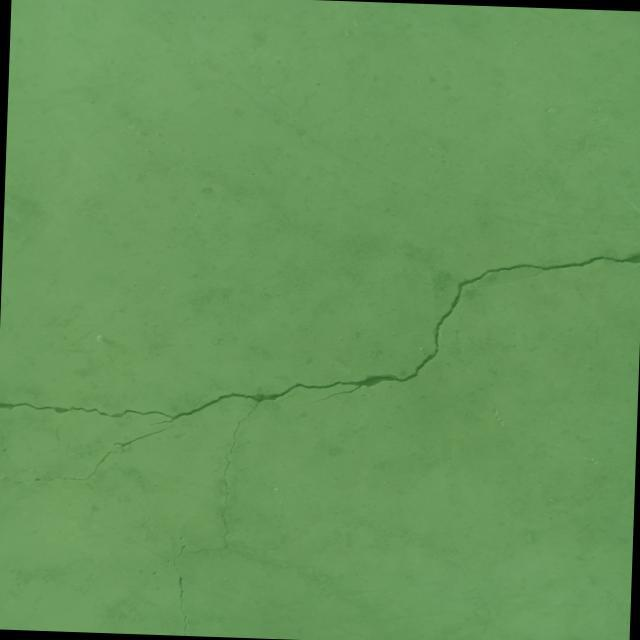crack: (0, 227, 640, 568), (0, 444, 125, 487), (163, 543, 190, 635), (113, 421, 174, 448)
